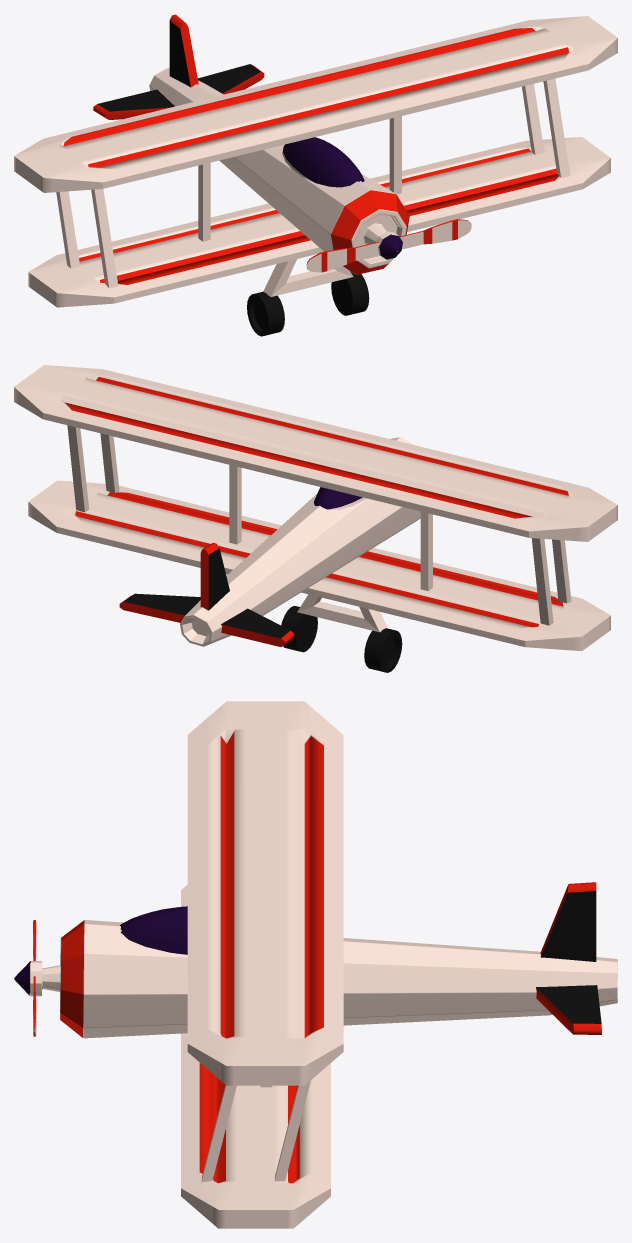
Rendered from Flight1.glb.
3 views of the same model, one above another, from view 1: azimuth 30°, elevation 25°; view 2: azimuth 150°, elevation 25°; view 3: azimuth 270°, elevation 25° (orthographic). The views are drawn at different scales.
Visible parts, largest first — view 1: pCube34; view 2: pCube34; view 3: pCube34.
Boxes of the visible parts, x1=… form: pCube34: x1=14, y1=14, x2=617, y2=336; pCube34: x1=14, y1=365, x2=617, y2=672; pCube34: x1=14, y1=701, x2=617, y2=1228.
Bounding box in the file's own units: 4.96 × 1.78 × 3.47.
